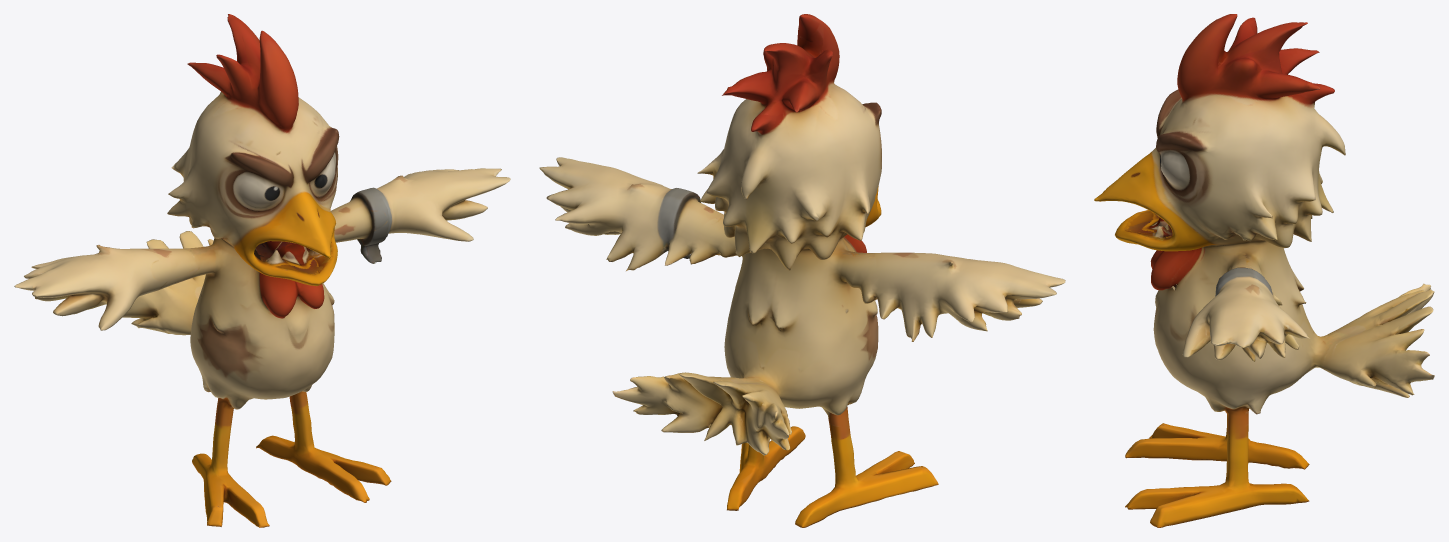
File: feral chickenbkup.fbx
3 renders of one model, left to right at view 1: azimuth 30°, elevation 25°; view 2: azimuth 150°, elevation 25°; view 3: azimuth 270°, elevation 25°, orthographic. The views are drawn at different scales.
Parts seen in each view (by area): view 1: input; view 2: input; view 3: input.
Boxes of the visible parts, x1=… form: input: x1=14, y1=14, x2=510, y2=527; input: x1=539, y1=14, x2=1065, y2=527; input: x1=1094, y1=14, x2=1434, y2=527.
Size of the model in its own units: 191 by 168 by 110.
1 material, 1 textured.
